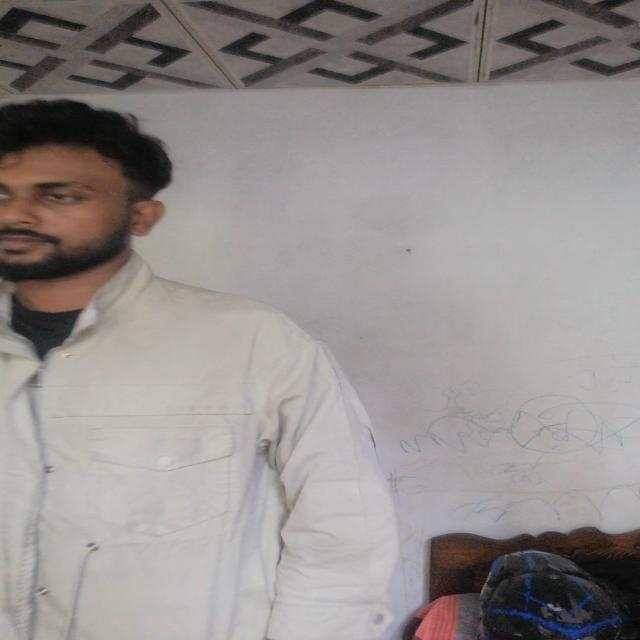Jacket_Wearer: (0, 247, 392, 640)
Person: (0, 89, 384, 640)
